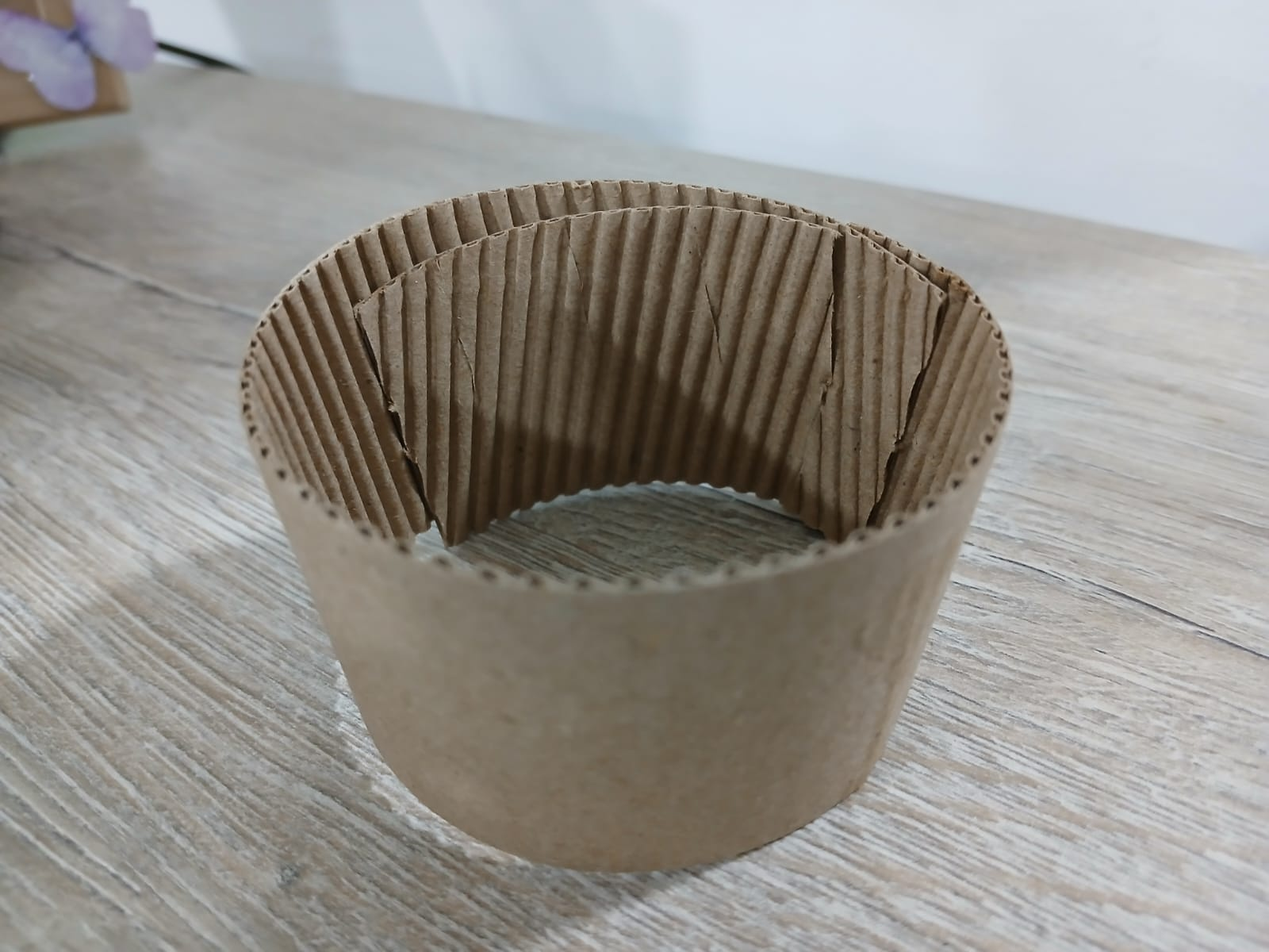Carton: (236, 179, 1013, 871)
